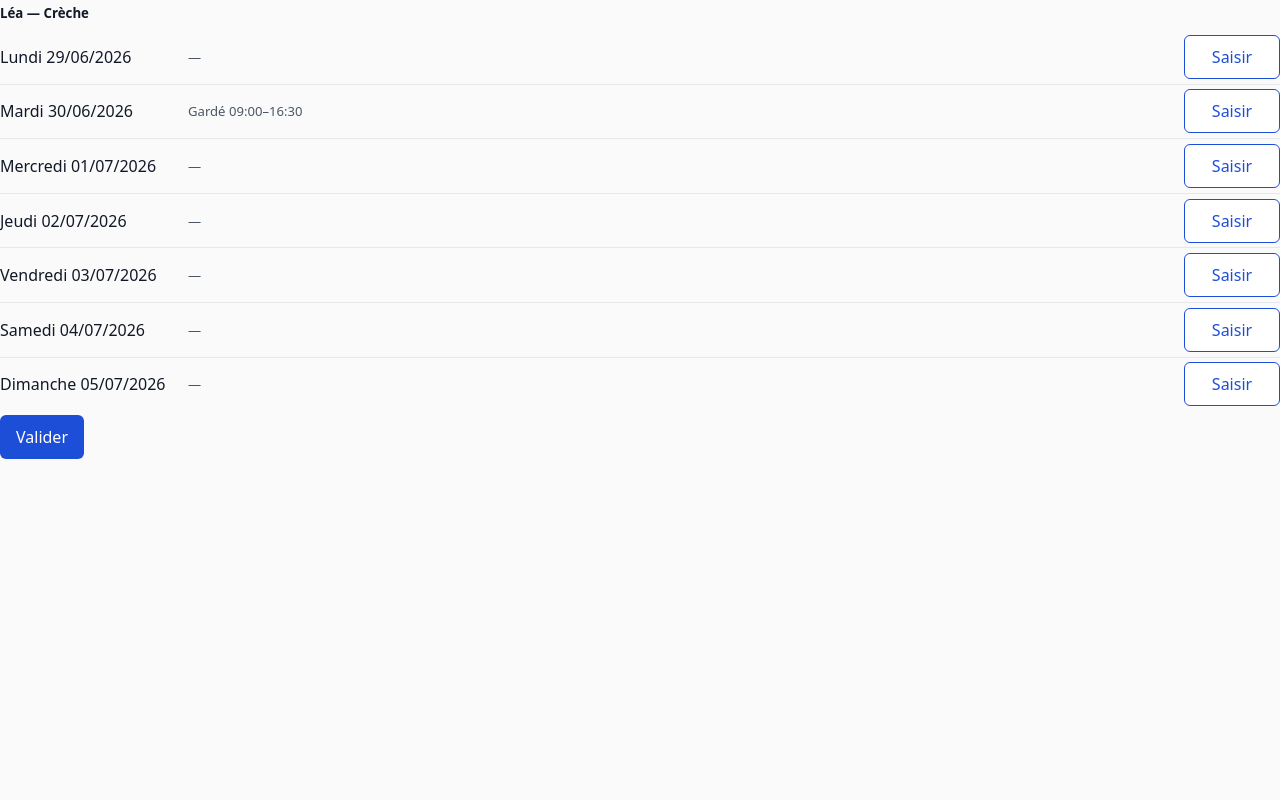
it: EditeurContratSemaine (crèche PSU) › saisir une arrivée en avance : état « facturé en complément » puis entrée ajustements
The width and height of the screenshot is (1280, 800).
Click the button with aria-label "Saisir le Mardi 30/06/2026": (1232, 111) [1184, 89, 1279, 133]
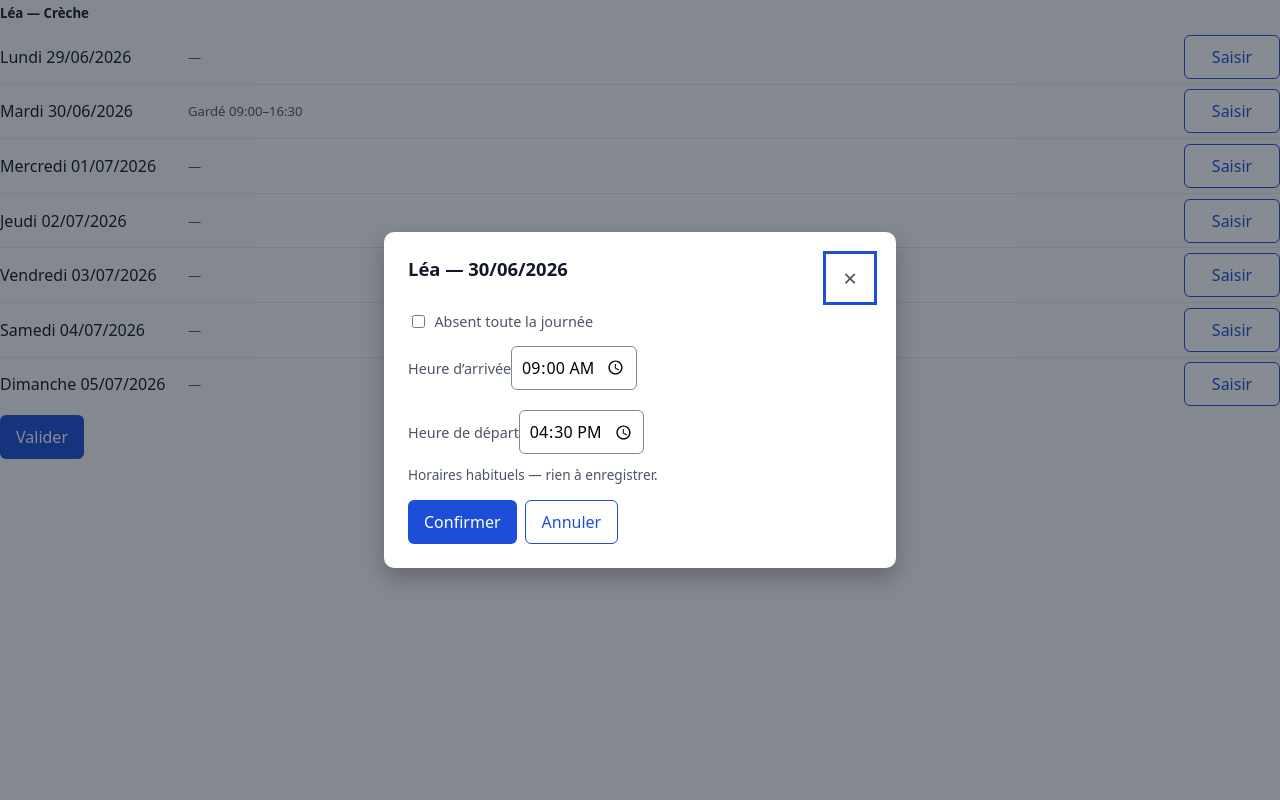
expect the time field labelled "Heure d’arrivée" holds "09:00": met
expect the time field labelled "Heure de départ" holds "16:30": met, box [519, 410, 644, 454]
Replace the text in the time field labelled "Heure d’arrivée" with "08:00": (574, 368) [511, 346, 637, 390]
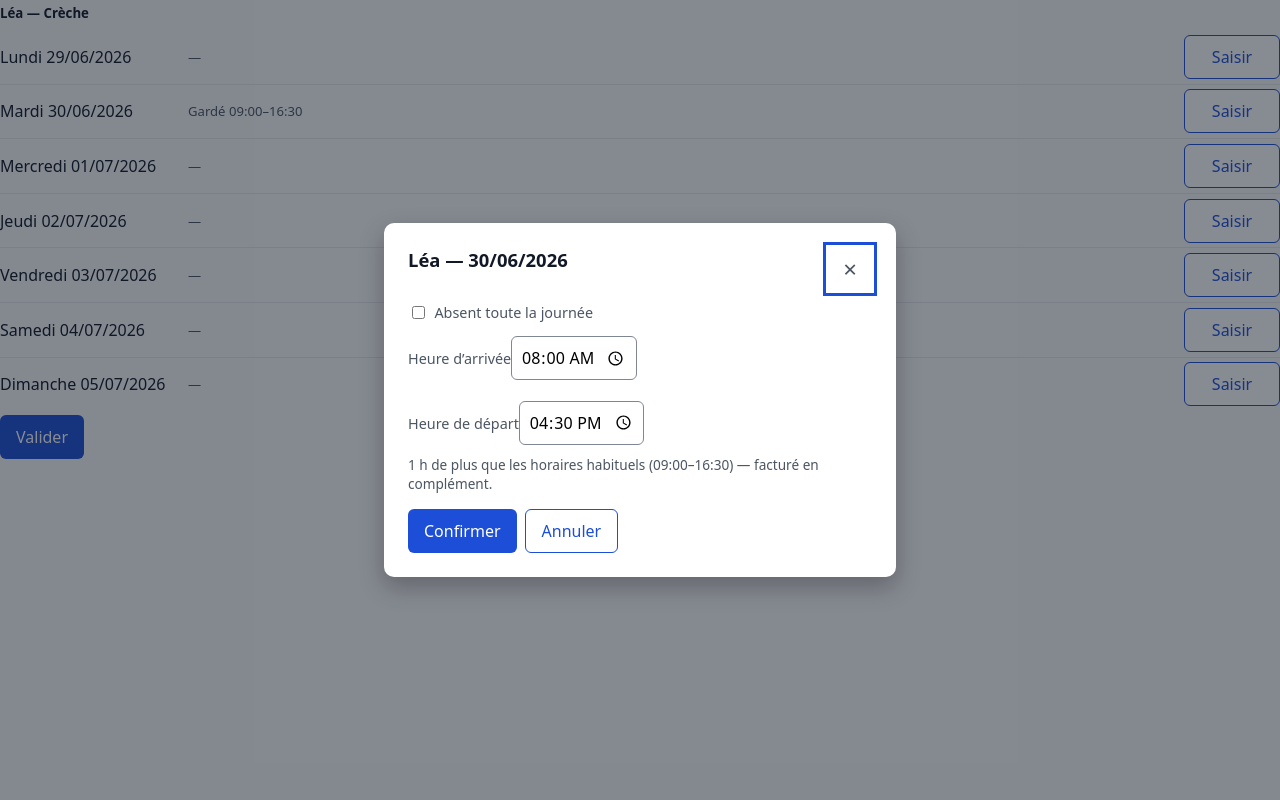
expect the text "1 h de plus que les horaires habituels (09:00–16:30) — facturé en complément." is shown: met, box [408, 455, 872, 493]
Click the button "Confirmer": (462, 531) [408, 509, 516, 553]
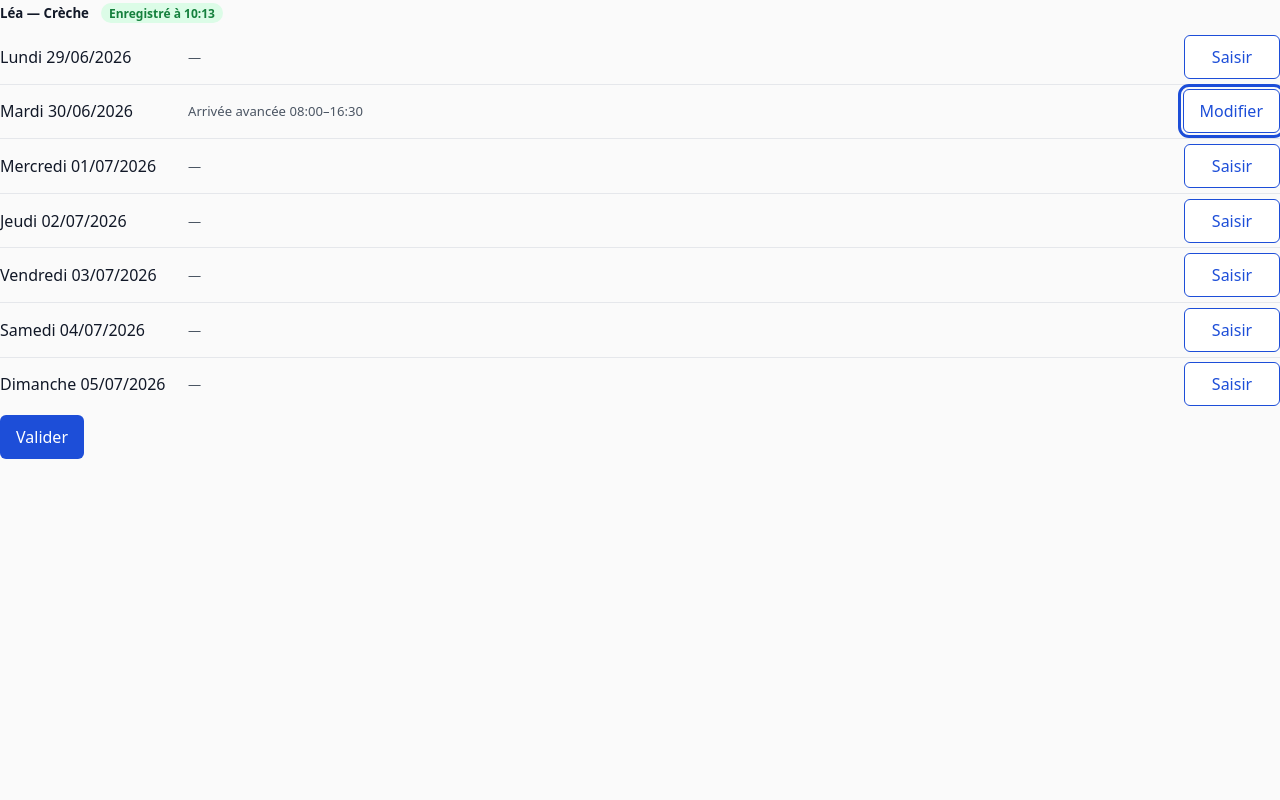
expect the text "Arrivée avancée 08:00–16:30" is shown: met, box [188, 102, 363, 120]
expect the text "Enregistré à 10:13" is shown: met, box [101, 3, 223, 23]
